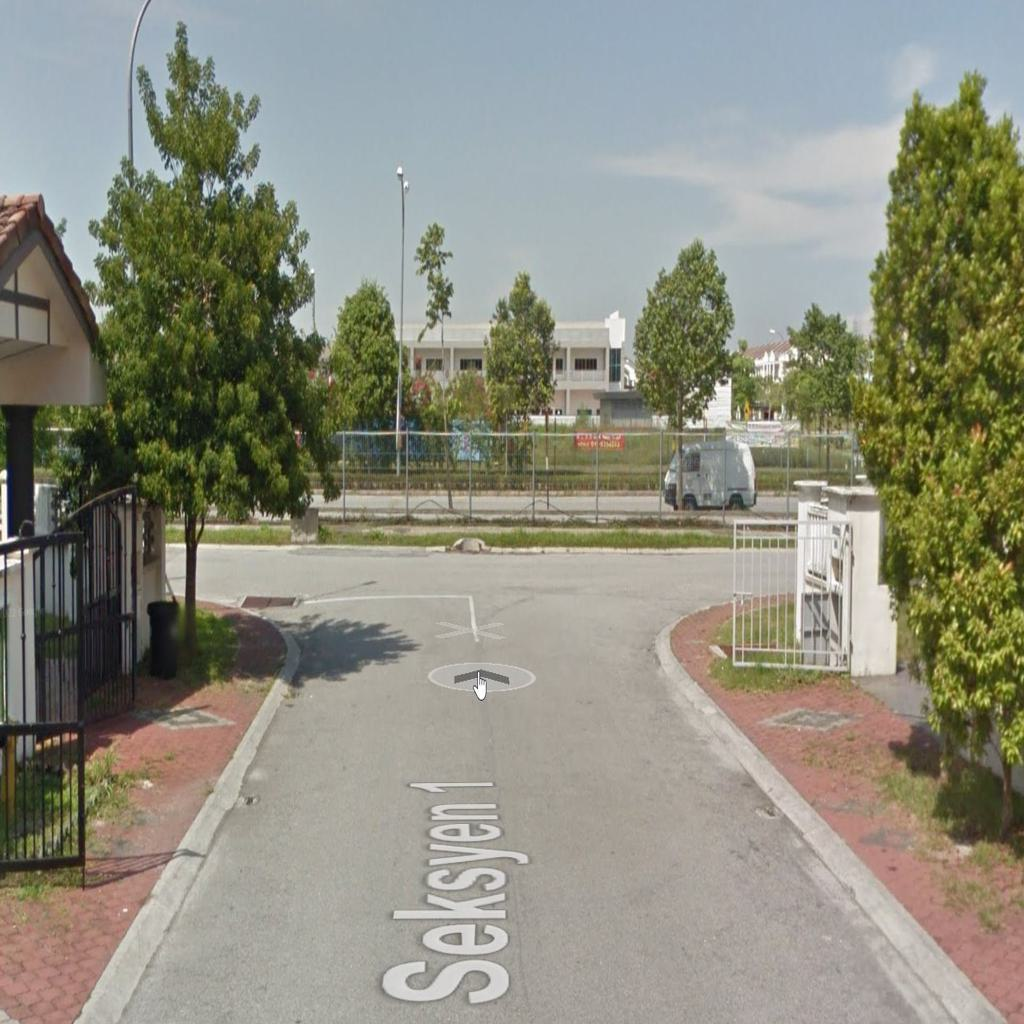Junction: (568, 535, 796, 651), (191, 529, 351, 657)
